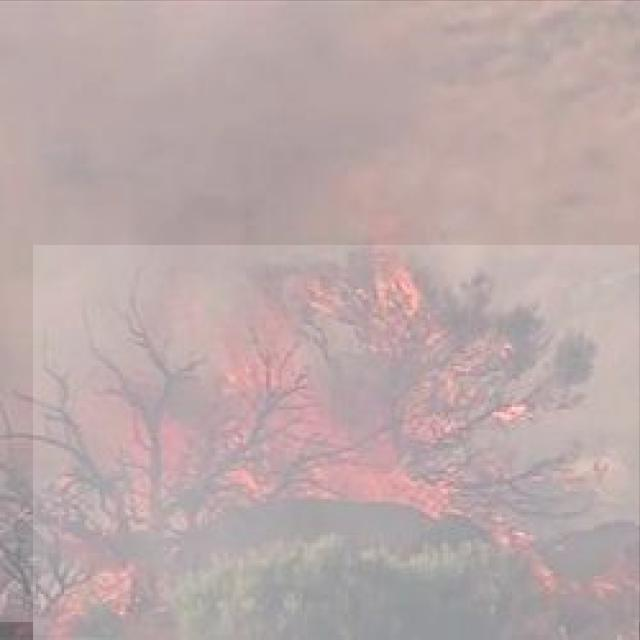Fire: (33, 245, 639, 640)
Smoke: (0, 1, 640, 622)
